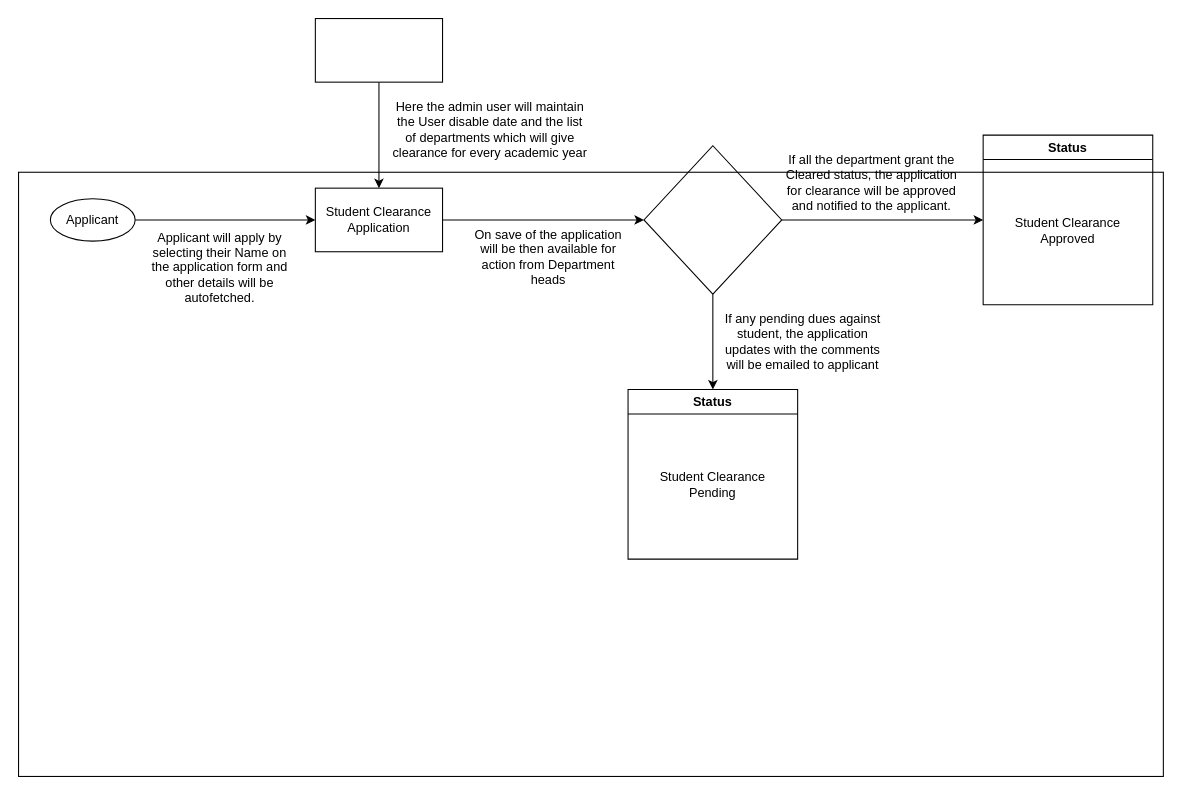
Some shapes in this 1182 by 795 pixel diagram are drawn without their labels. Each missing label, with the centre of its shape:
"Clearance by department heads" goes at point (712, 219).
"Clearance Master" goes at point (378, 49).
